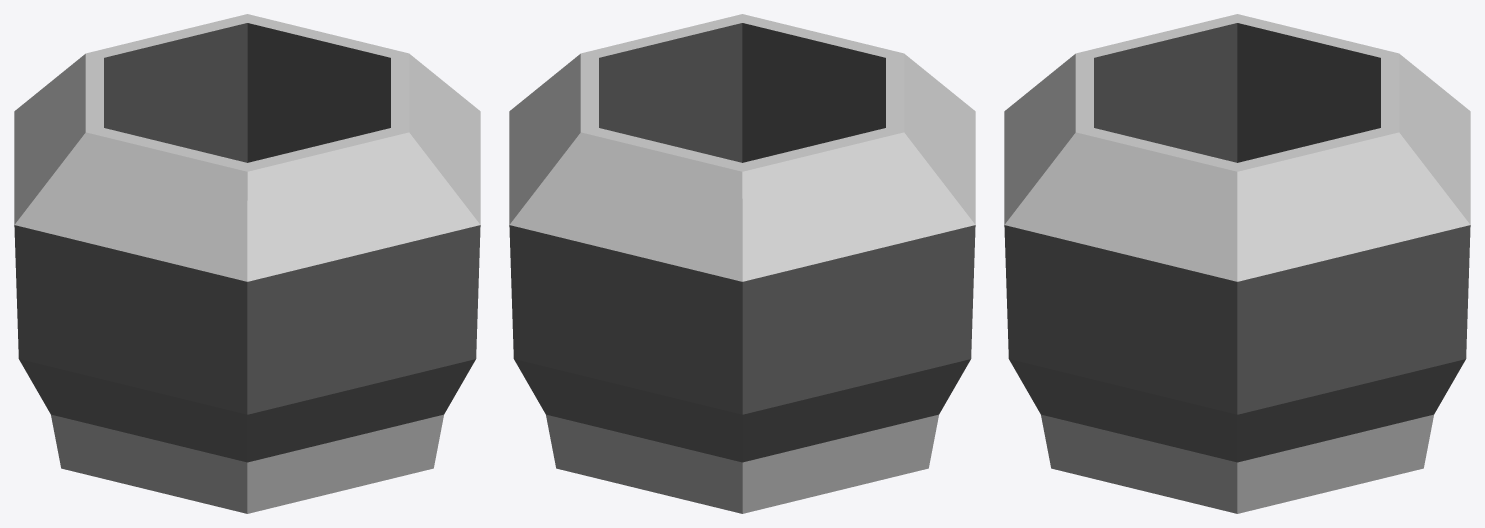
Rendered from PenHolderV2.fbx.
3 views of the same model, side by side, from view 1: azimuth 30°, elevation 25°; view 2: azimuth 150°, elevation 25°; view 3: azimuth 270°, elevation 25° (orthographic).
Visible parts, largest first — view 1: PenHolderV2; view 2: PenHolderV2; view 3: PenHolderV2.
Part boxes in pixels (left/top/right/bottom): PenHolderV2: left=14, top=14, right=480, bottom=513; PenHolderV2: left=509, top=14, right=975, bottom=513; PenHolderV2: left=1004, top=14, right=1470, bottom=513.
Bounding box in the file's own units: 7.6 × 5.14 × 6.58.
